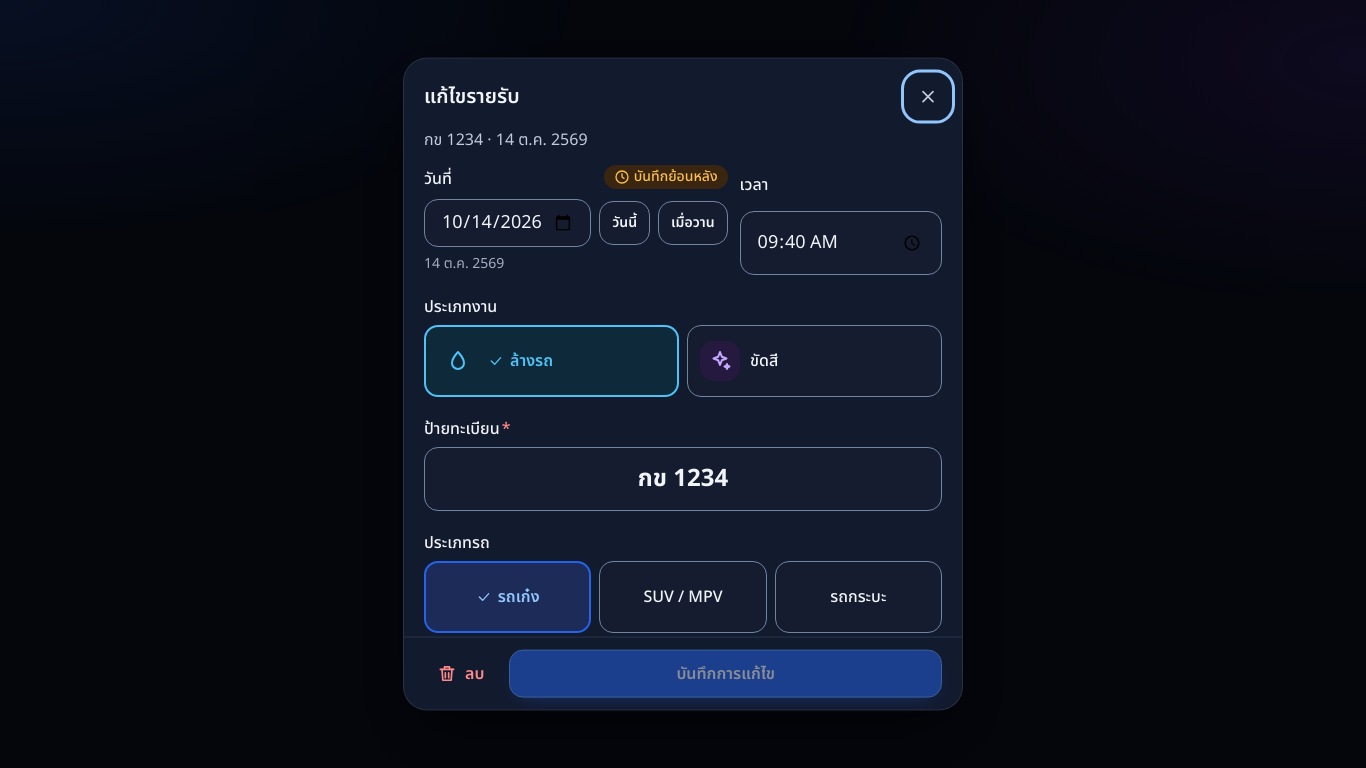
Test: EditRecordDialog › asks inline before deleting, with the safe choice focused
What coordinates should you click on to do the following:
click the button "ลบ"
I would click on:
 (461, 673)
Its box is [424, 649, 497, 697].
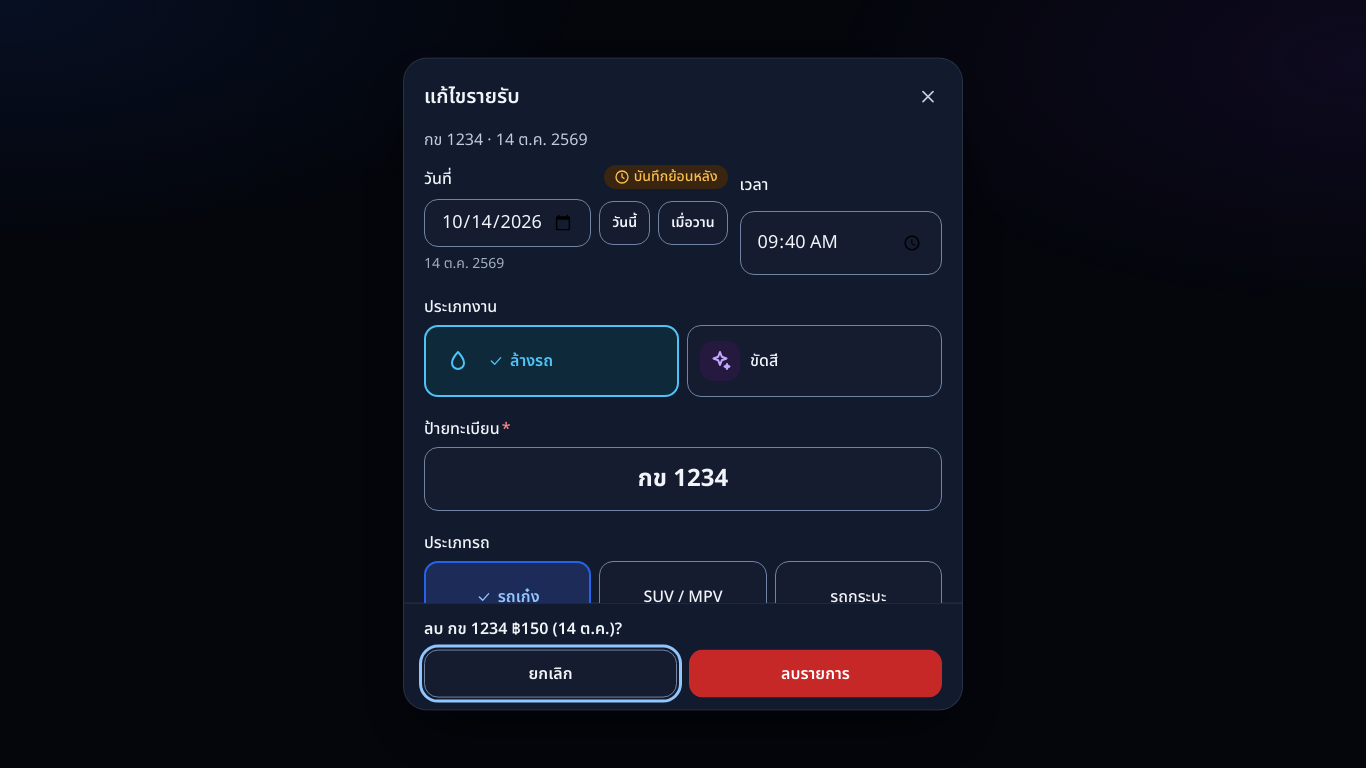
Check: the text "ลบ กข 1234 ฿150 (14 ต.ค.)?" is shown, box [424, 616, 622, 640]
What coordinates should you click on to do the following:
click the button "ลบรายการ"
I would click on:
 (816, 673)
Its box is [689, 649, 942, 697].
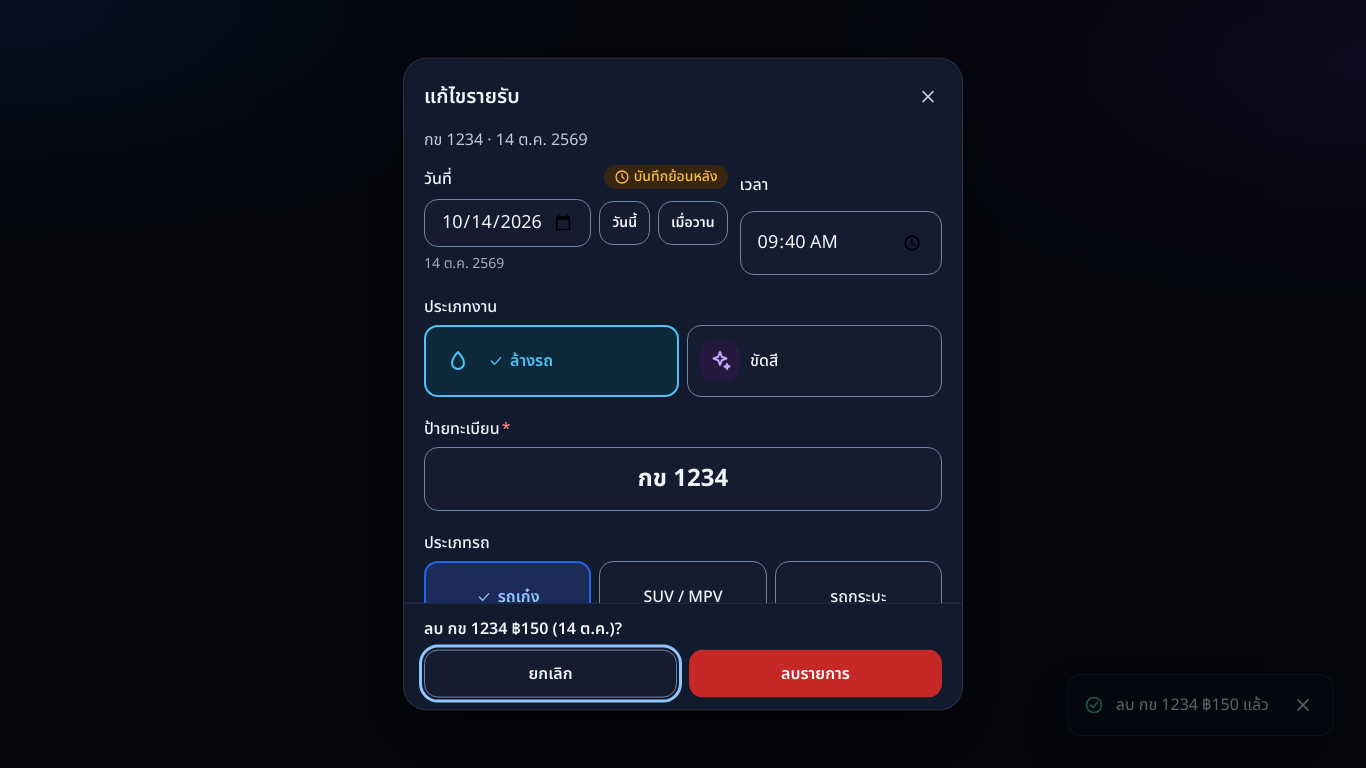
Check: the message reads "ลบ กข 1234 ฿150 แล้ว", box [1116, 693, 1269, 717]
